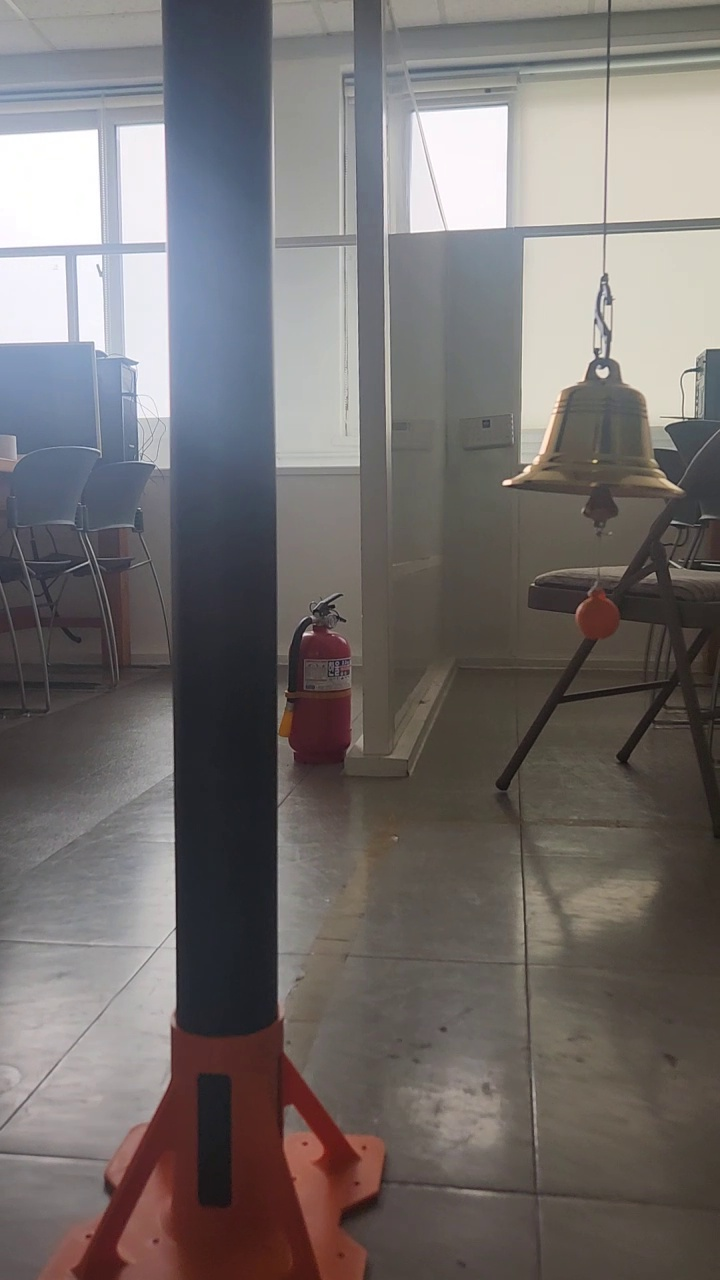bell: (501, 366, 675, 496)
pole: (160, 0, 286, 1025)
